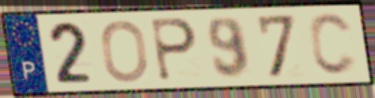2: (49, 19, 100, 87)
7: (255, 12, 300, 81)
9: (206, 15, 252, 81)
C: (306, 11, 360, 78)
O: (99, 19, 150, 85)
P: (148, 17, 199, 84)
